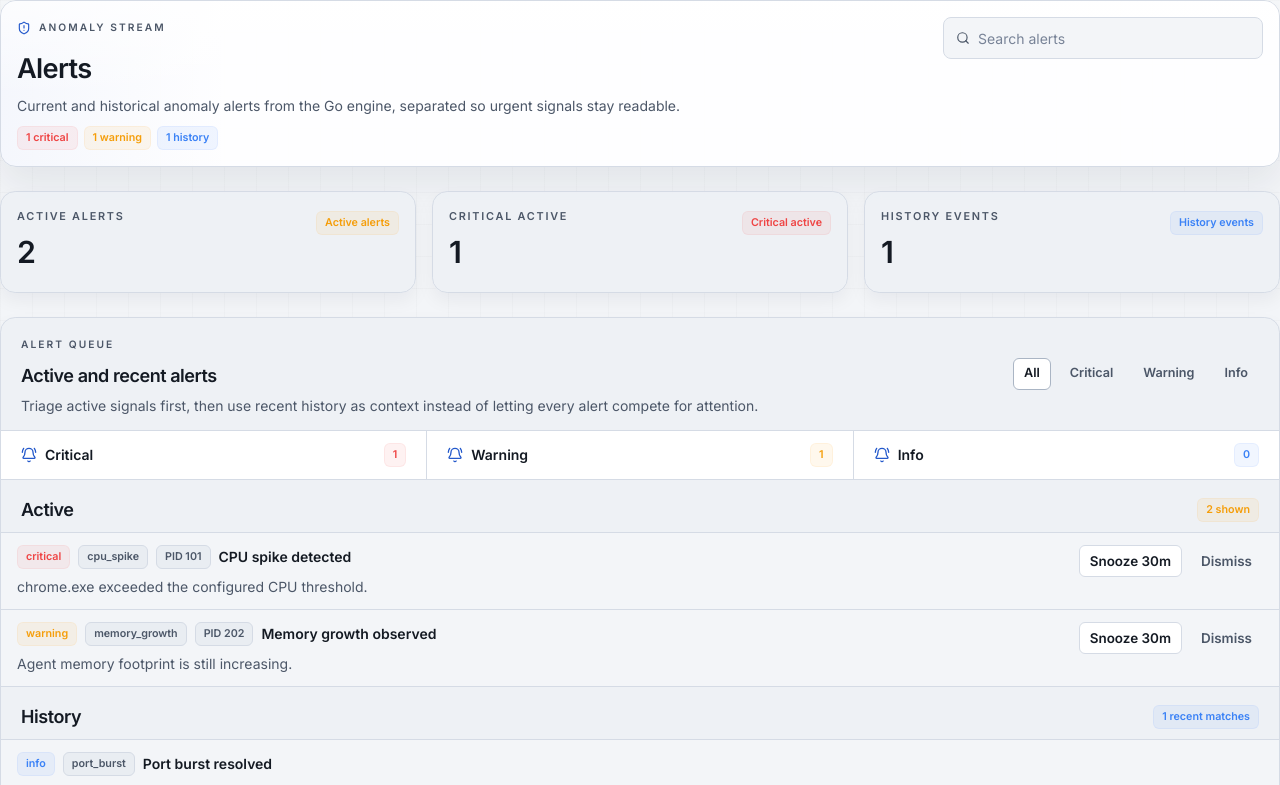
Test: AlertsPage › filters alerts by severity chip
This screenshot has width=1280, height=785.
Click the button "Critical" at (1092, 374), box x1=1059 y1=358 x2=1124 y2=390
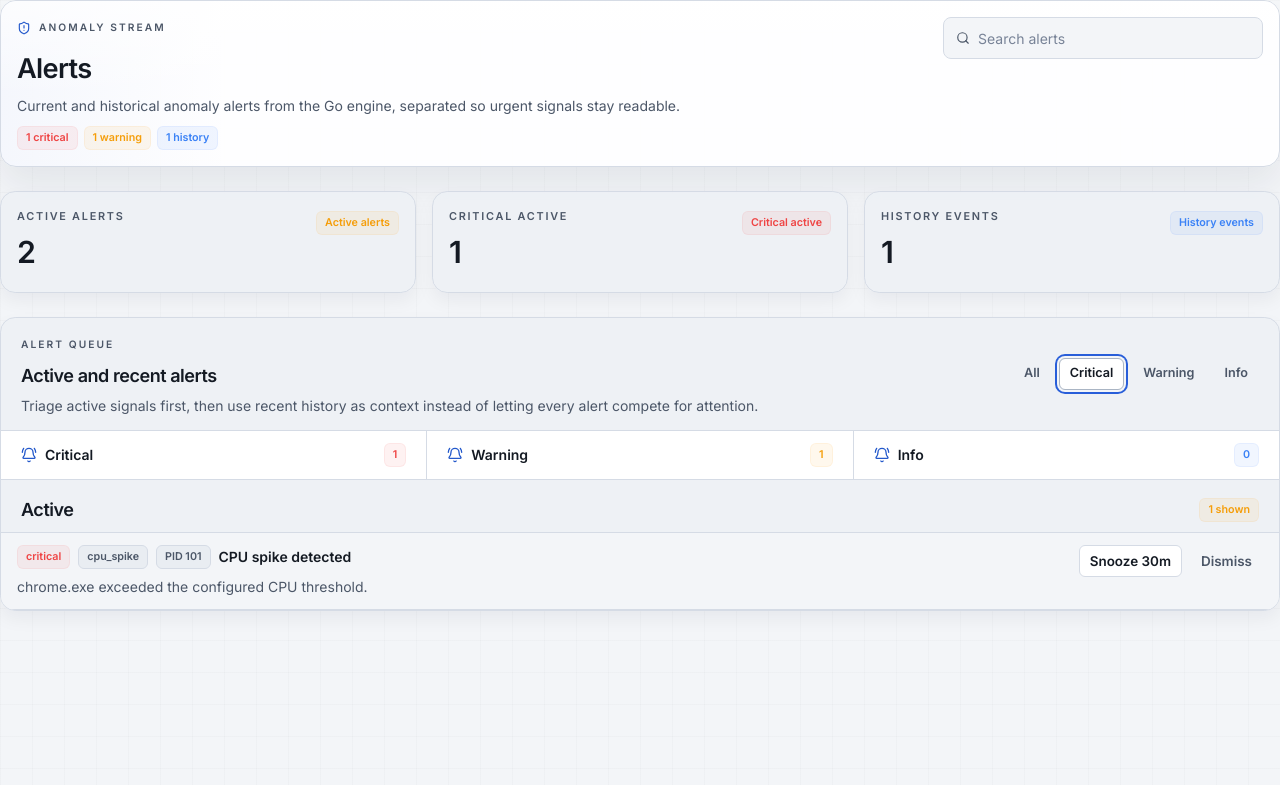
Expected: the text "CPU spike detected" is shown, x1=218 y1=547 x2=351 y2=567
Result: the text "Memory growth observed" is gone
